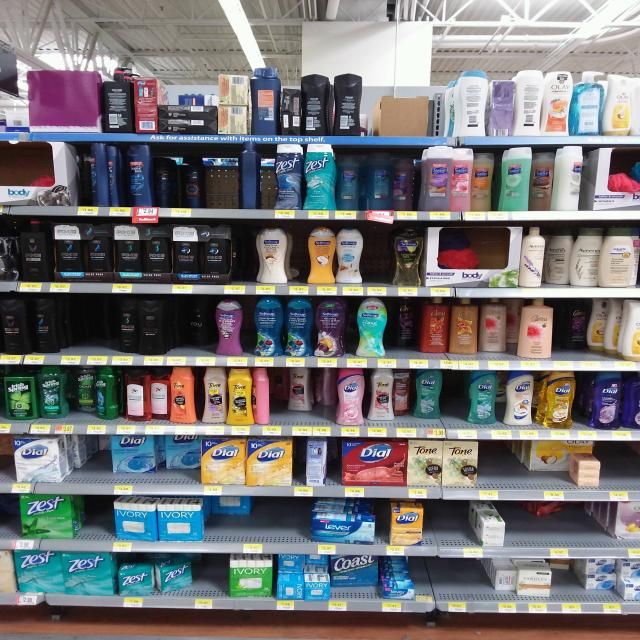void: (257, 497, 310, 557), (600, 429, 639, 507), (423, 563, 482, 614), (65, 297, 101, 370), (586, 298, 622, 371), (514, 438, 550, 498), (429, 506, 468, 560), (602, 509, 640, 564), (213, 502, 252, 555), (516, 505, 552, 562), (78, 501, 114, 556), (561, 502, 592, 561), (210, 148, 235, 220), (390, 307, 420, 366), (560, 297, 584, 370), (68, 442, 99, 493), (550, 441, 578, 495), (200, 558, 227, 610), (446, 372, 466, 441), (485, 441, 508, 500), (370, 224, 388, 296), (556, 562, 576, 616)
